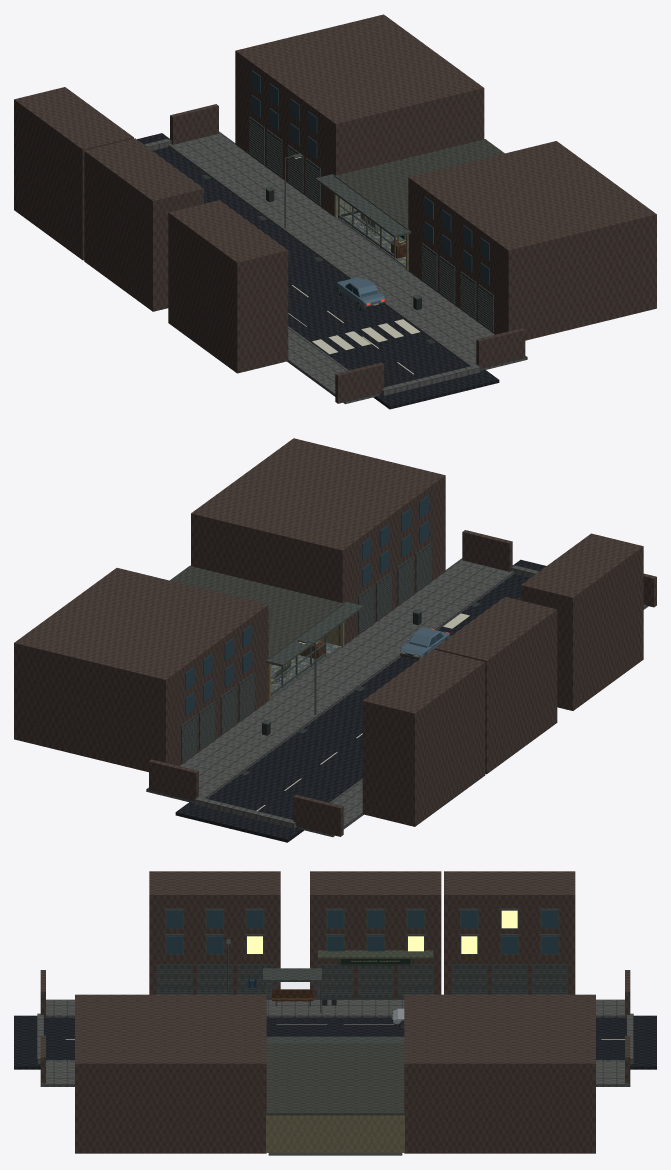
The model's file is Laundromat.glb.
3 views of the same model, one above another, from view 1: azimuth 30°, elevation 25°; view 2: azimuth 150°, elevation 25°; view 3: azimuth 270°, elevation 25° (orthographic). The views are drawn at different scales.
Parts seen in each view (by area): view 1: Old street brick, Wet sidewalk, Wet asphalt, Closed steel shutters, Tarnished steel, Water-stained ceiling, Dark car windows, Worn road paint, Dark blue saloon paint, Black rubber; view 2: Old street brick, Wet sidewalk, Wet asphalt, Closed steel shutters, Tarnished steel, Water-stained ceiling, Dark car windows, Dark blue saloon paint; view 3: Old street brick, Tarnished steel, Water-stained ceiling, Closed steel shutters, Wet asphalt, Wet sidewalk, Damp nicotine plaster, Dark car windows, Distant apartment windows, Faded waiting chairs, Worn laminate counter, Closed florist sign.
Part boxes in pixels (<box>): Old street brick: <box>14,14,656,403</box>; Wet sidewalk: <box>144,131,527,404</box>; Wet asphalt: <box>137,133,499,409</box>; Closed steel shutters: <box>249,117,493,332</box>; Tarnished steel: <box>202,120,492,343</box>; Water-stained ceiling: <box>334,139,504,229</box>; Dark car windows: <box>251,70,489,296</box>; Worn road paint: <box>288,285,419,374</box>; Dark blue saloon paint: <box>337,277,384,308</box>; Black rubber: <box>203,174,434,342</box>; Old street brick: <box>14,438,656,836</box>; Wet sidewalk: <box>146,558,648,837</box>; Wet asphalt: <box>175,559,546,842</box>; Closed steel shutters: <box>181,543,431,763</box>; Tarnished steel: <box>182,546,520,775</box>; Water-stained ceiling: <box>170,565,344,658</box>; Dark car windows: <box>185,495,442,715</box>; Dark blue saloon paint: <box>400,627,449,658</box>; Old street brick: <box>40,871,630,1153</box>; Tarnished steel: <box>156,908,567,1042</box>; Water-stained ceiling: <box>266,1043,404,1115</box>; Closed steel shutters: <box>156,964,567,999</box>; Wet asphalt: <box>14,1015,656,1069</box>; Wet sidewalk: <box>37,999,633,1086</box>; Damp nicotine plaster: <box>266,1115,404,1152</box>; Dark car windows: <box>166,910,557,953</box>; Distant apartment windows: <box>247,910,517,953</box>; Faded waiting chairs: <box>318,950,433,958</box>; Worn laminate counter: <box>272,989,313,1001</box>; Closed florist sign: <box>338,959,413,965</box>.
Size of the model in its own units: 31.4 by 9.01 by 48.
40 materials, 23 textured.
